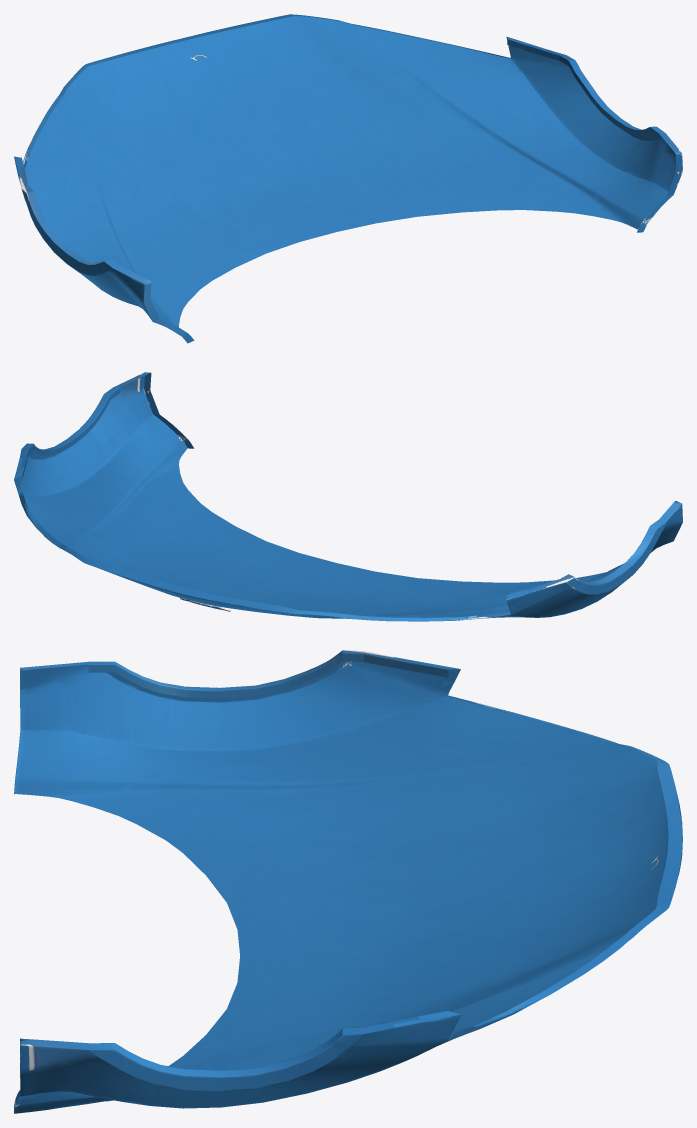
File: CofreAuto.obj
3 renders of one model, top to bottom at view 1: azimuth 30°, elevation 25°; view 2: azimuth 150°, elevation 25°; view 3: azimuth 270°, elevation 25°, orthographic. The views are drawn at different scales.
Visible parts, largest first — view 1: Cofre; view 2: Cofre; view 3: Cofre.
Boxes of the visible parts, x1,y1,x2,y2 form: Cofre: (14,14,682,343); Cofre: (14,372,682,621); Cofre: (14,650,682,1113).
Bounding box in the file's own units: 2.67 × 0.3929 × 1.94.
